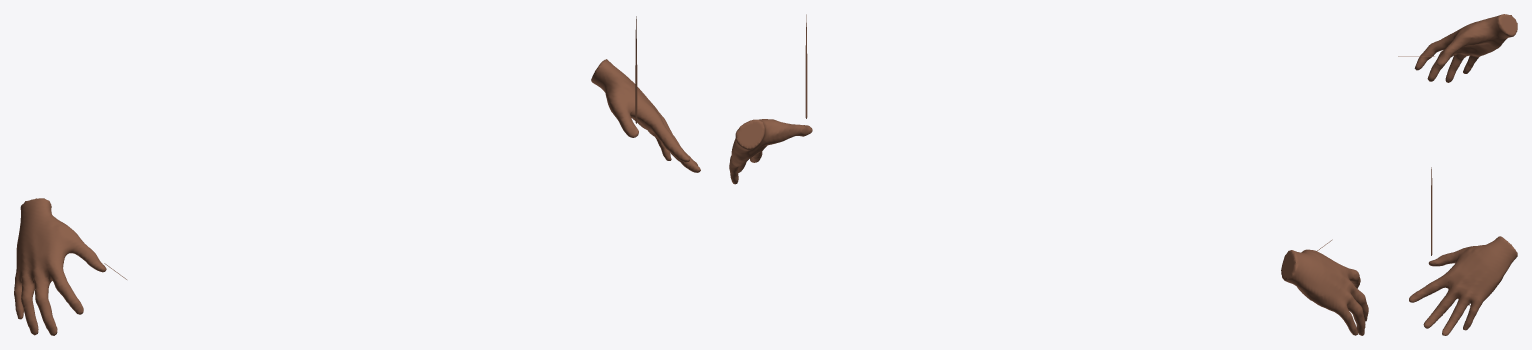
File: hands-relaxed.glb
3 views of the same model, side by side, from view 1: azimuth 30°, elevation 25°; view 2: azimuth 150°, elevation 25°; view 3: azimuth 270°, elevation 25° (orthographic). The views are drawn at different scales.
Visible parts, largest first — view 1: hands; view 2: hands; view 3: hands.
Part boxes in pixels (bbox=[...]): hands: bbox=[14, 16, 700, 335]; hands: bbox=[729, 14, 1368, 335]; hands: bbox=[1398, 14, 1517, 335].
Size of the model in its own units: 1 by 0.2649 by 0.1934.
